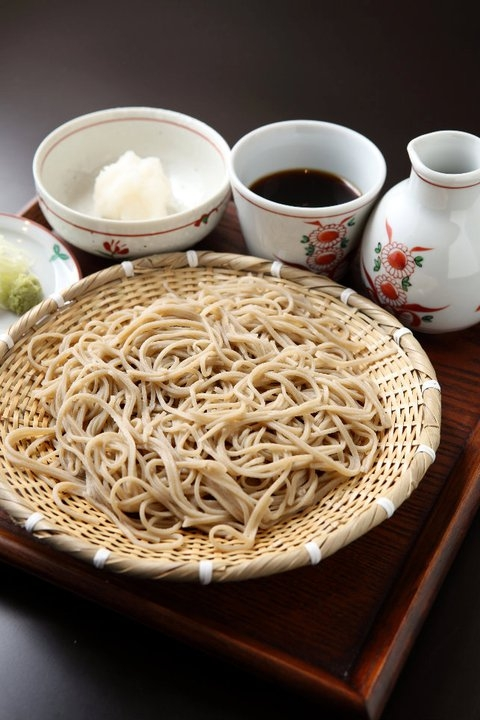Soba: (40, 275, 401, 535)
